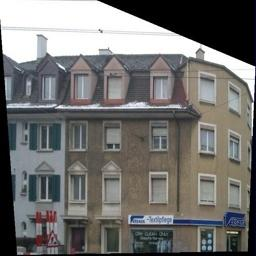building: (64, 53, 256, 255)
